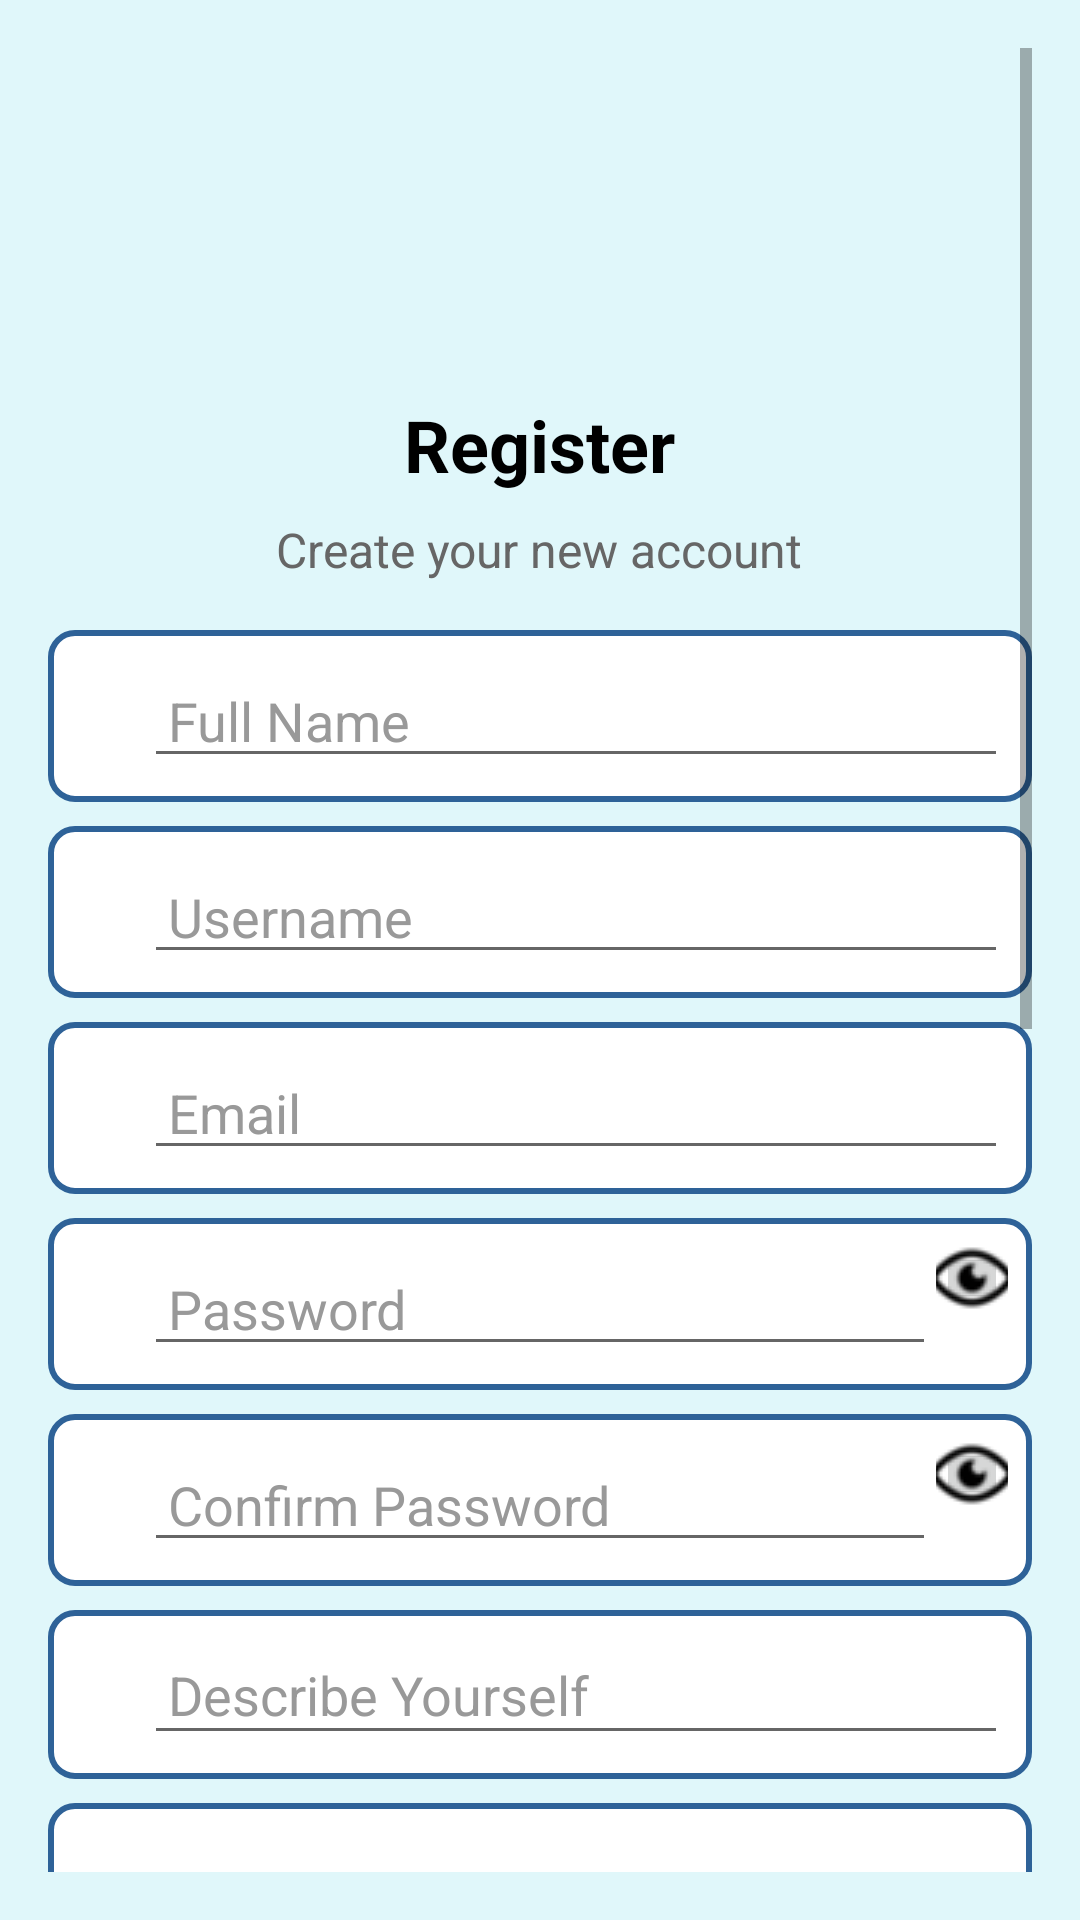

Point at icon controls on the screen. Image size 1080 x 1920, points as (x=x, y=y).
ojo contra: (x=972, y=1278), (x=972, y=1474)
